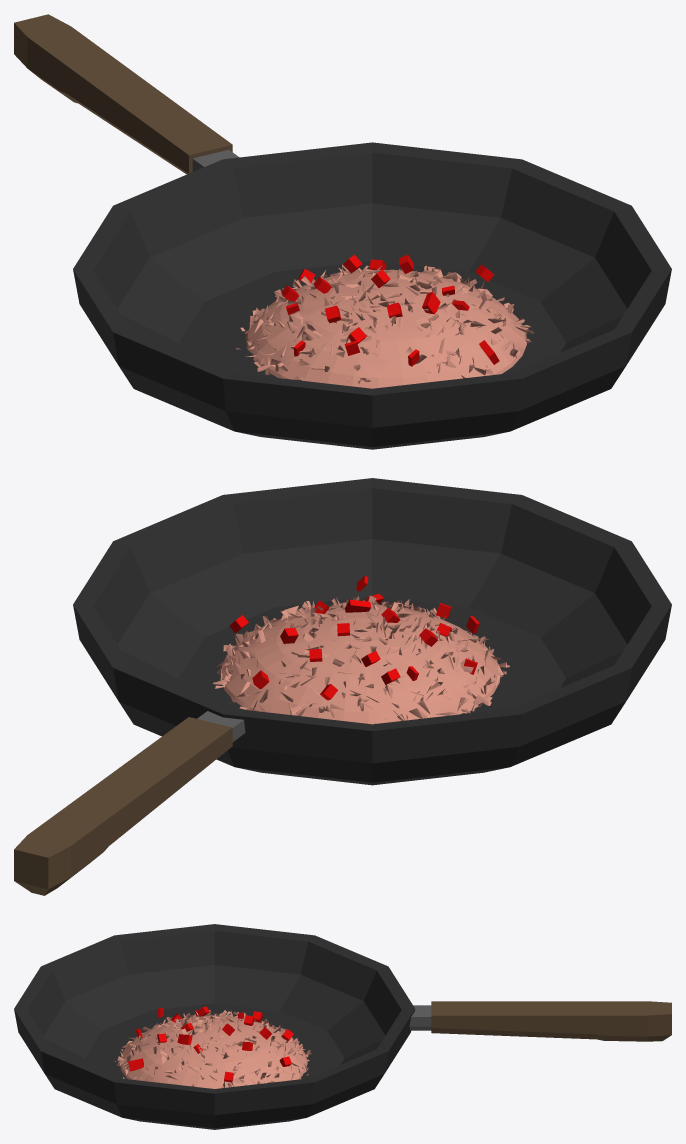
Rendered from fried_rice.fbx.
3 views of the same model, one above another, from view 1: azimuth 30°, elevation 25°; view 2: azimuth 150°, elevation 25°; view 3: azimuth 270°, elevation 25° (orthographic). The views are drawn at different scales.
Visible parts, largest first — view 1: Pan, Rice1, group3; view 2: Pan, Rice1, group3; view 3: Pan, Rice1, group3.
Boxes of the visible parts, x1,y1,x2,y2 form: Pan: (14, 14, 671, 449); Rice1: (236, 264, 533, 388); group3: (281, 254, 499, 366); Pan: (14, 478, 671, 895); Rice1: (213, 595, 509, 724); group3: (229, 575, 479, 700); Pan: (14, 924, 671, 1129); Rice1: (114, 1010, 311, 1088); group3: (128, 1006, 293, 1082).
Size of the model in its own units: 172 by 34.2 by 282.
